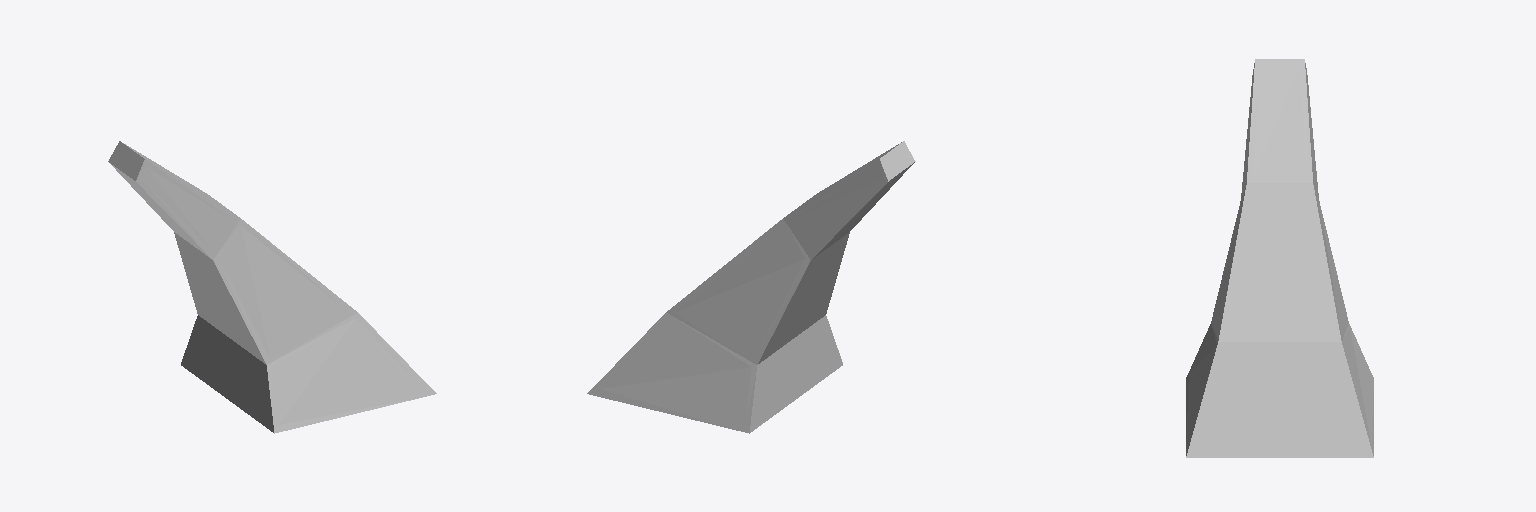
Rendered from glassBlade.obj.
3 renders of one model, left to right at view 1: azimuth 30°, elevation 25°; view 2: azimuth 150°, elevation 25°; view 3: azimuth 270°, elevation 25°, orthographic.
Visible parts, largest first — view 1: pCube5; view 2: pCube5; view 3: pCube5.
Boxes of the visible parts, box(x1,y1,x2,y2) form: pCube5: box(108, 141, 436, 433); pCube5: box(587, 141, 915, 433); pCube5: box(1186, 59, 1373, 457).
Size of the model in its own units: 0.6752 by 0.6557 by 0.4093.